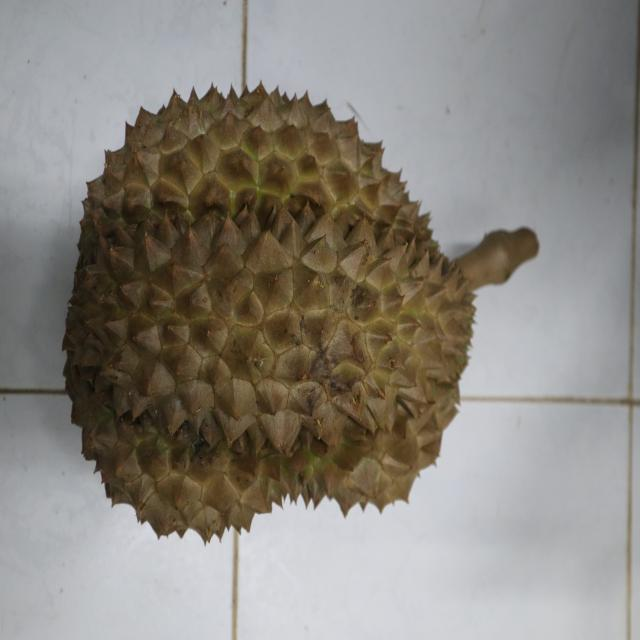mature: (59, 79, 475, 551)
